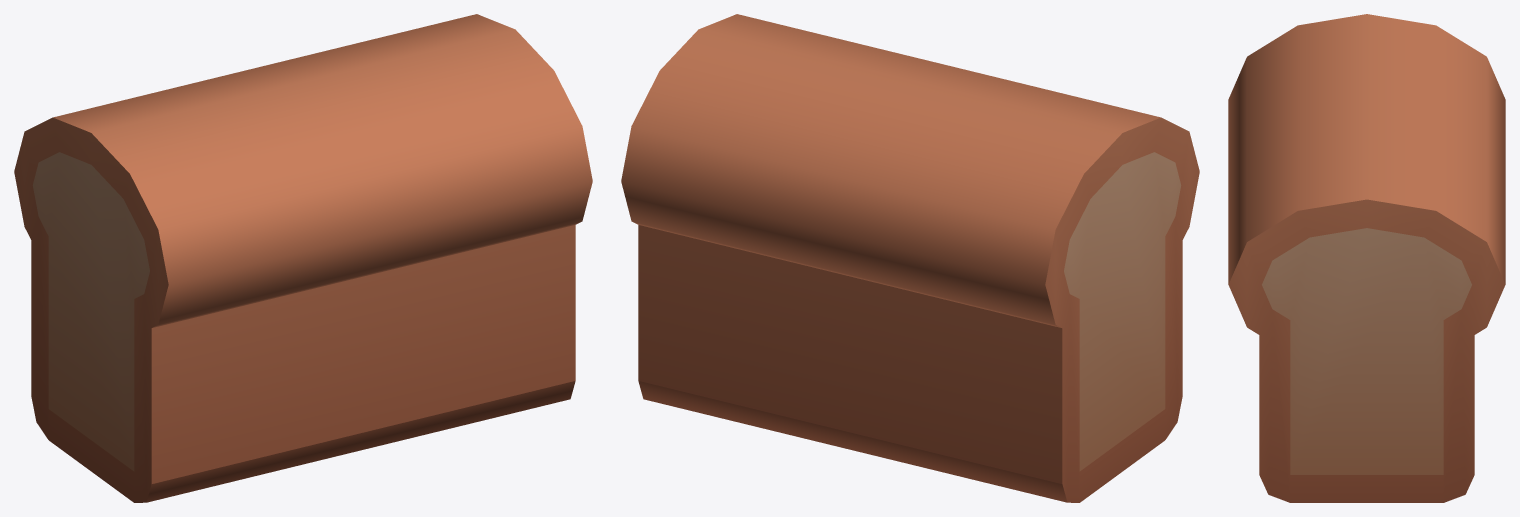
File: loaf.glb
3 views of the same model, side by side, from view 1: azimuth 30°, elevation 25°; view 2: azimuth 150°, elevation 25°; view 3: azimuth 270°, elevation 25° (orthographic). The views are drawn at different scales.
Visible parts, largest first — view 1: loaf; view 2: loaf; view 3: loaf.
Boxes of the visible parts, bbox=[...] form: loaf: bbox=[14, 14, 592, 502]; loaf: bbox=[621, 14, 1199, 502]; loaf: bbox=[1228, 14, 1505, 502].
Size of the model in its own units: 0.5797 by 0.4423 by 0.3659.
